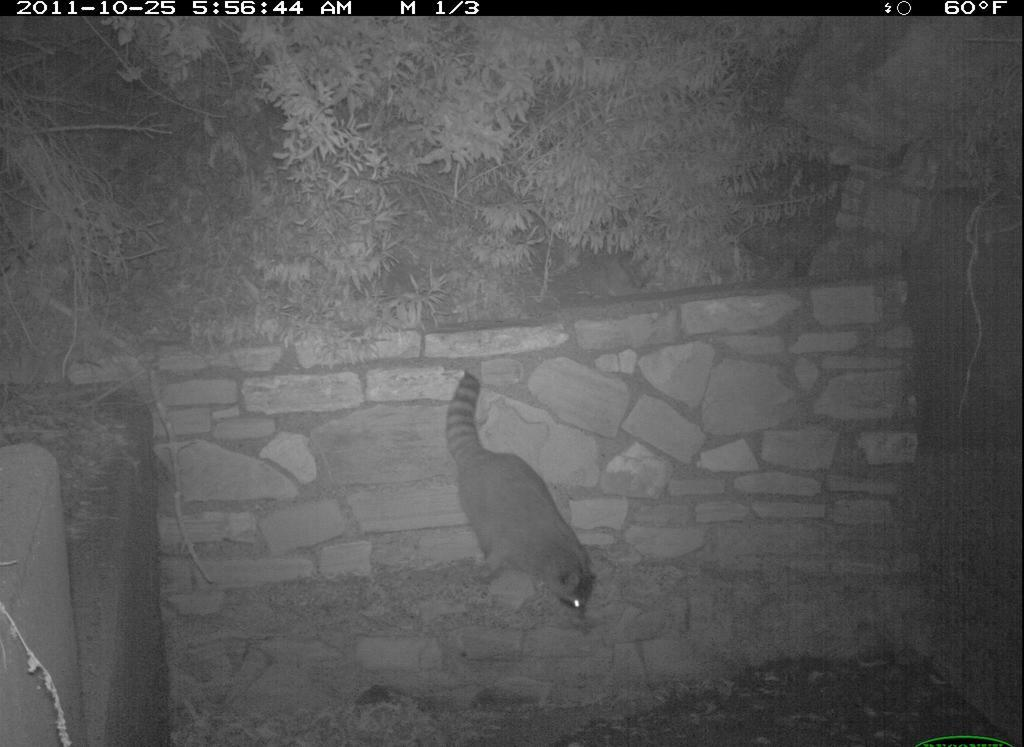raccoon: (438, 369, 603, 630)
